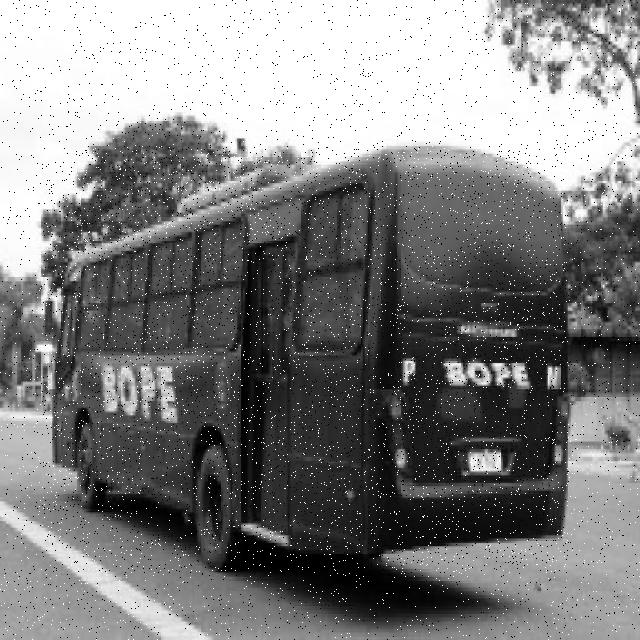Bus: (42, 146, 569, 573)
